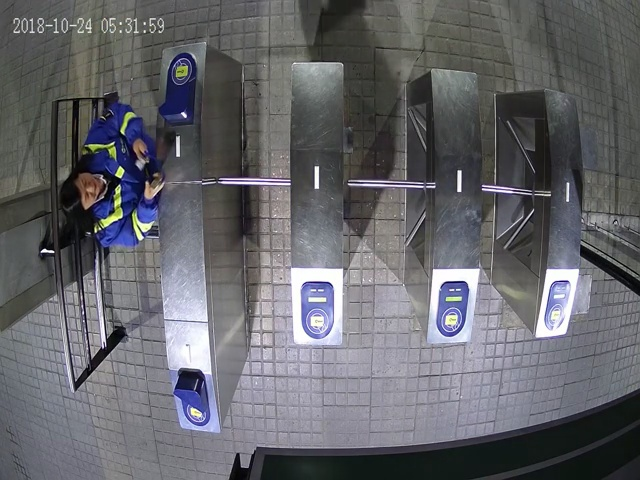Chaleco_azul: (59, 102, 166, 247)
